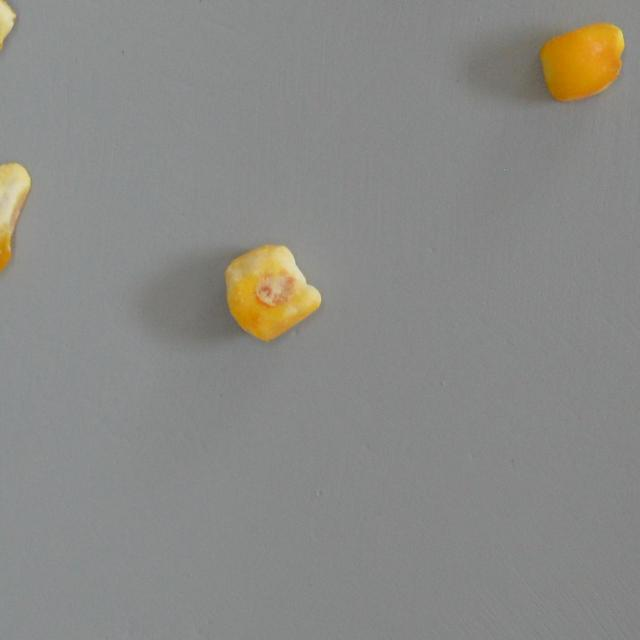dañado: (223, 242, 320, 340)
no_canjicado: (540, 22, 624, 101)
pelicula: (0, 161, 32, 280), (0, 0, 16, 54)
